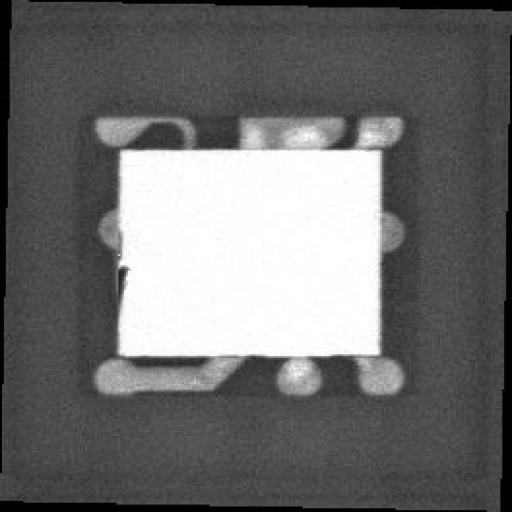DIE_BROKEN: (111, 260, 128, 300)
